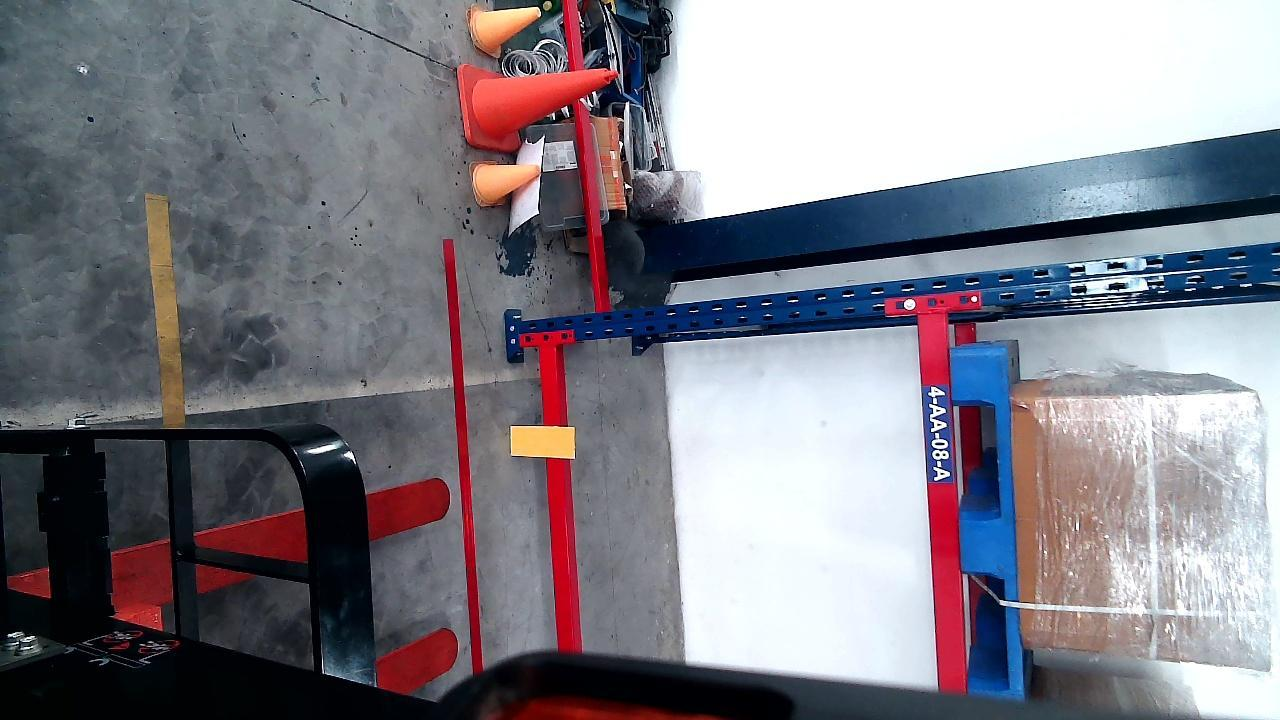red_line: (444, 224, 481, 671)
yellow_line: (148, 188, 185, 435)
